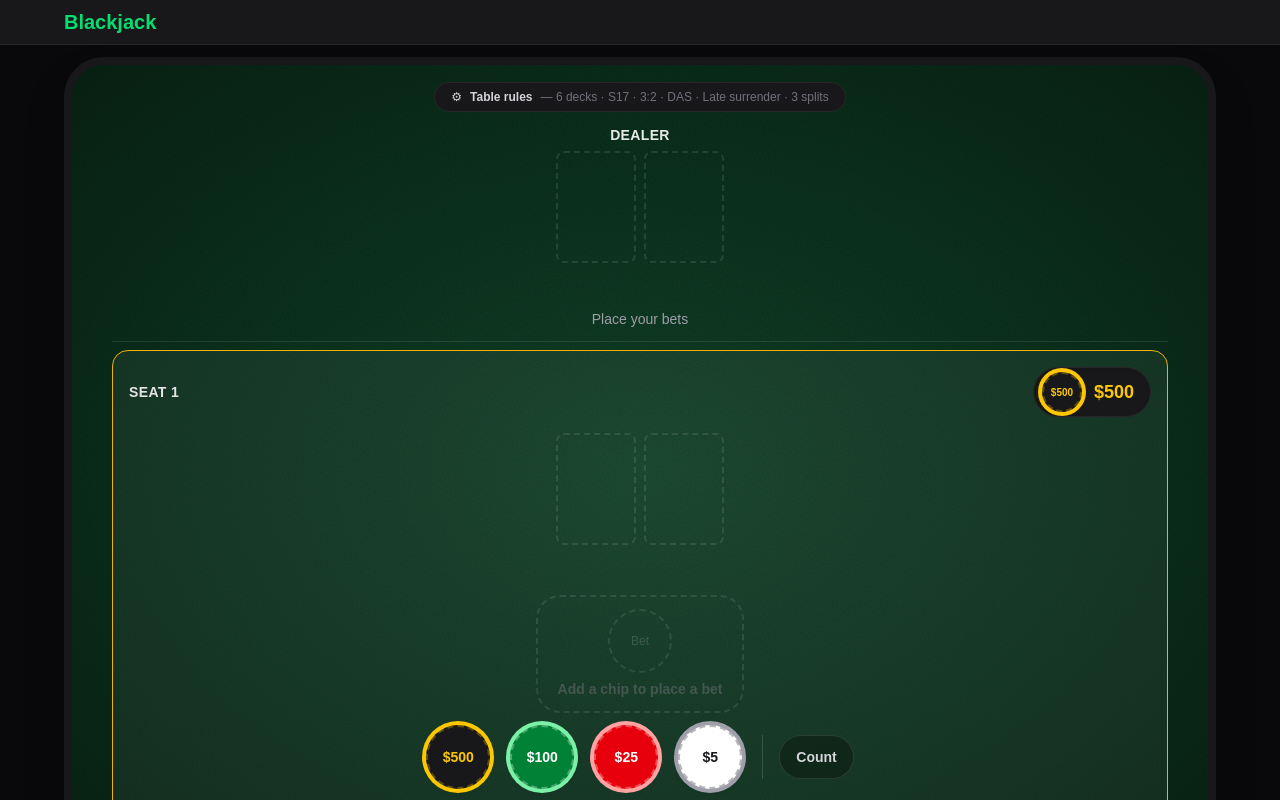
Test case: exactly one deal-again-style control at result › header New Hand is available mid-hand, where there is no other reset control
Click the button named "Add $25 chip": coordinates (626, 757) [594, 725, 658, 789]
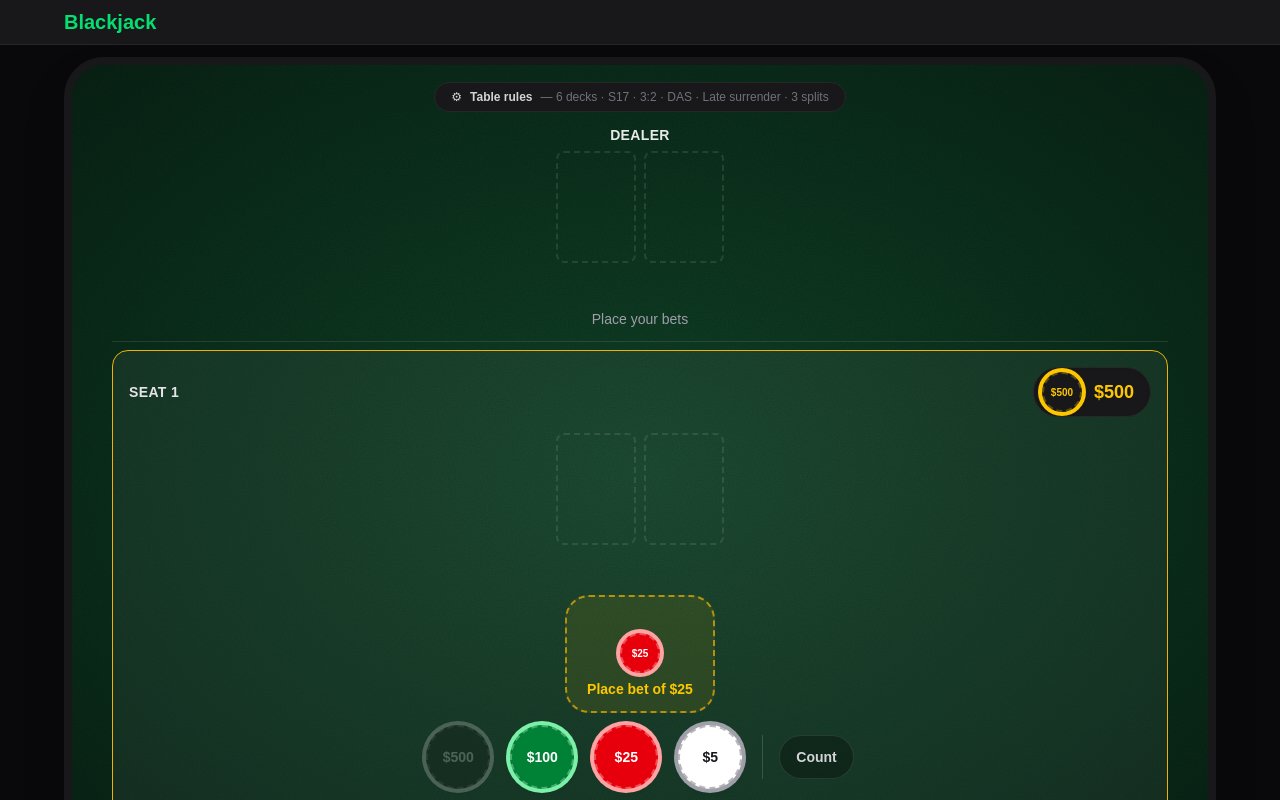
Click the button named "Add $25 chip": coordinates (626, 757) [594, 725, 658, 789]
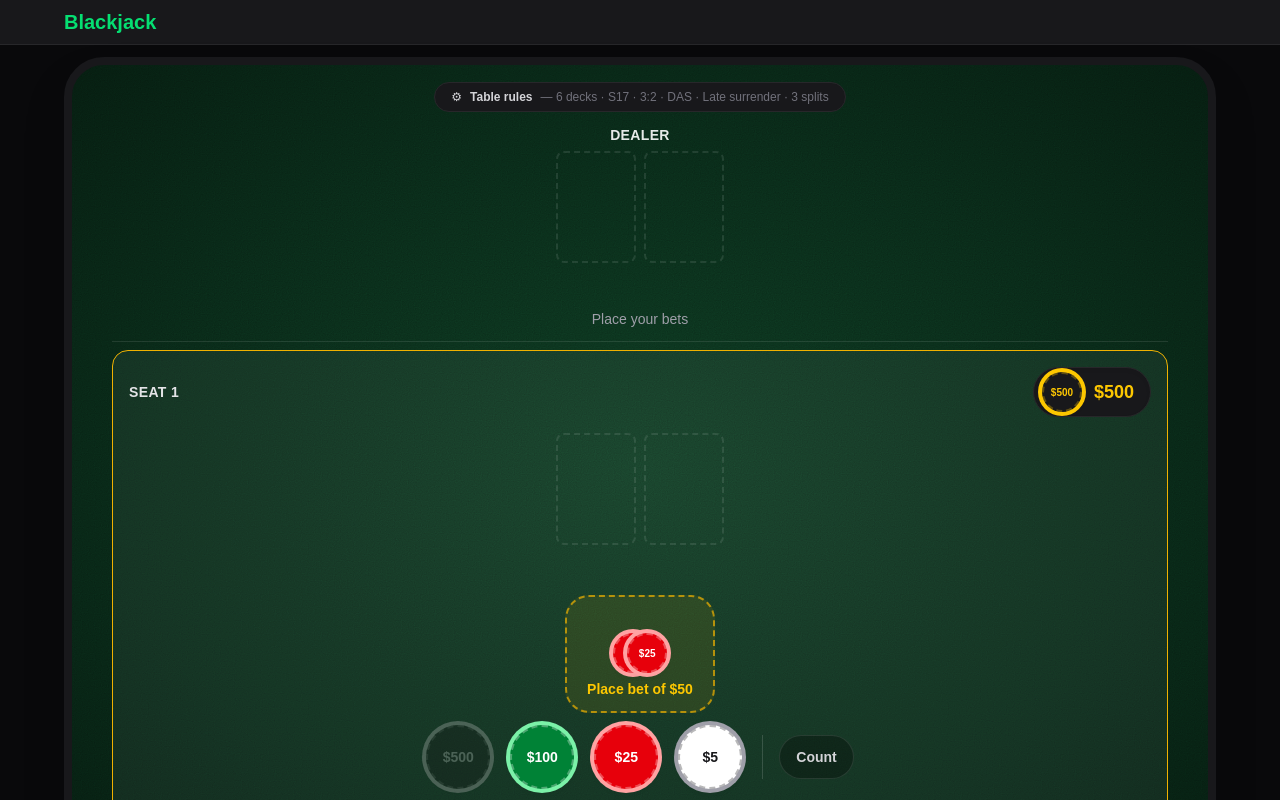
Click the button "$25 $25 Place bet of $50": coordinates (640, 654) [565, 595, 715, 713]
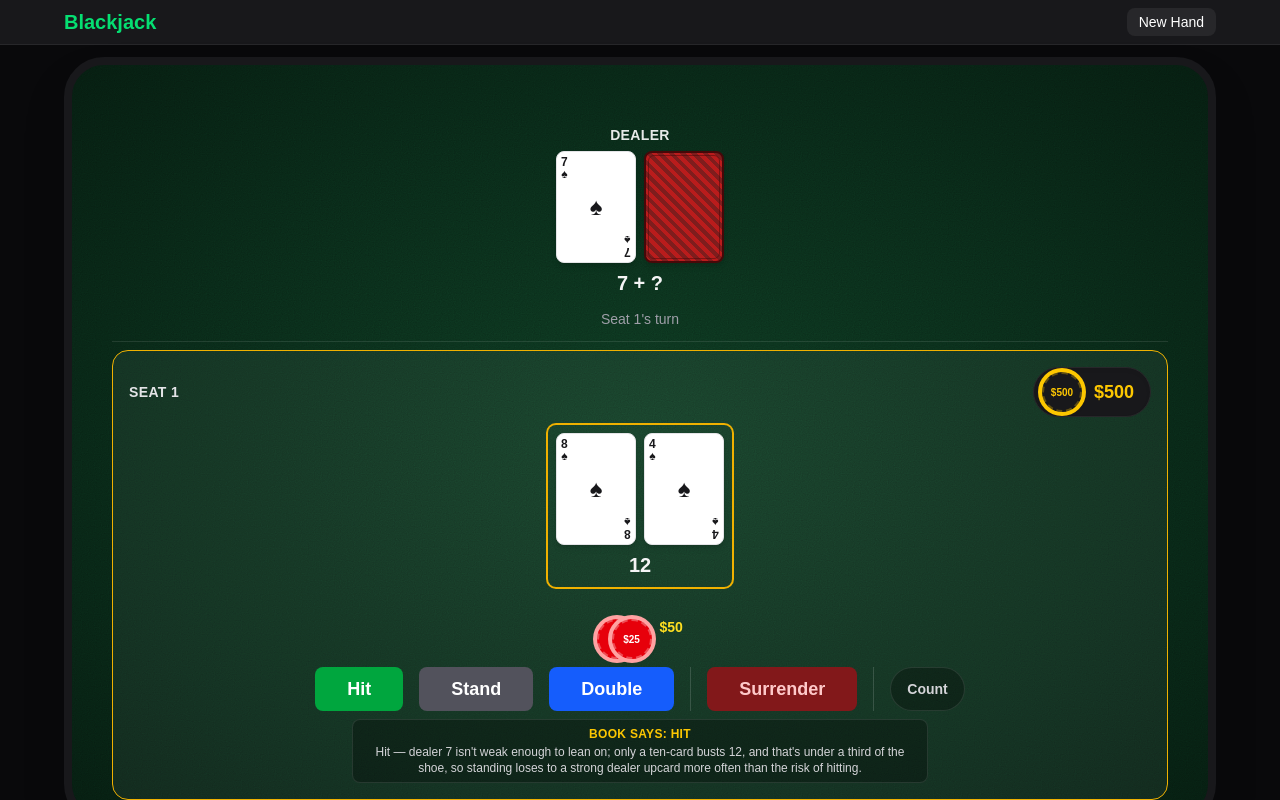
Now the button "New Hand" is shown, box [1127, 8, 1216, 36]
